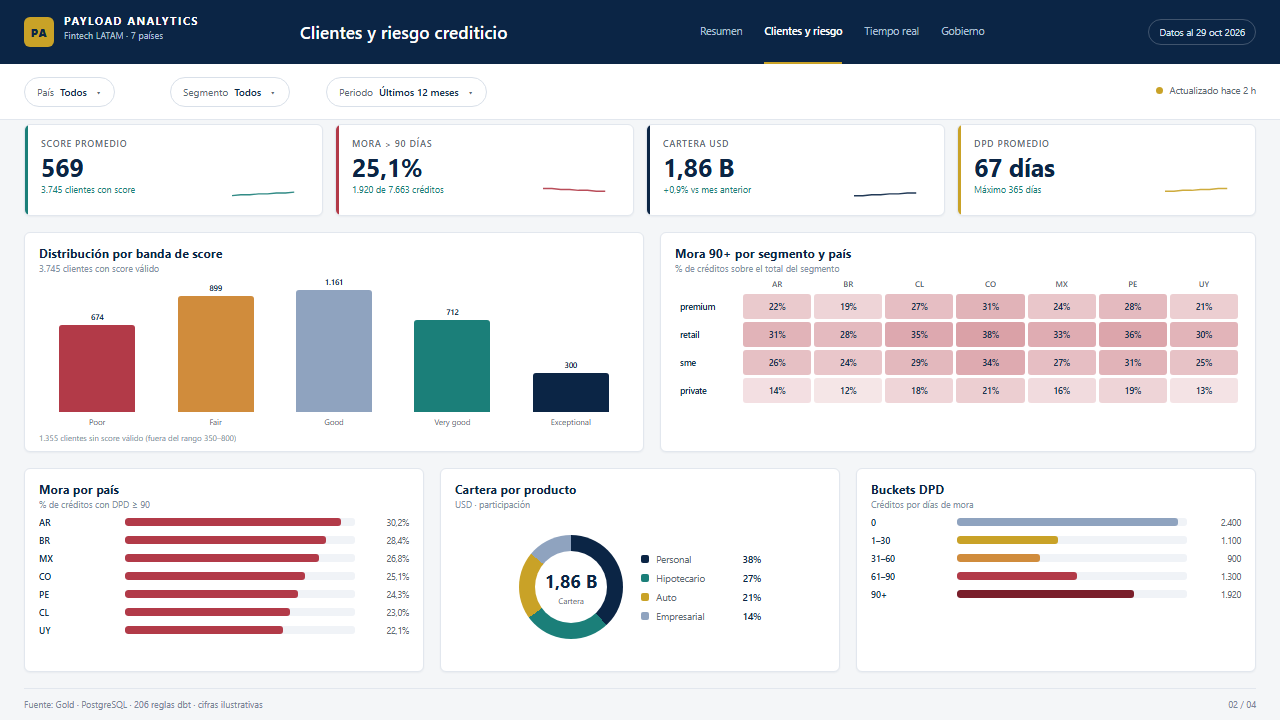

The page's visual inventory and layout, read from the dashboard file:
{"tool":"powerbi","page":{"name":"Riesgo","canvas":[1280,720],"ordinal":1},"visuals":[{"type":"textbox","box":[0,0,1280,720],"z":0},{"type":"textbox","box":[0,64,1280,56],"z":100},{"type":"textbox","box":[24,684,1232,1],"z":100},{"type":"textbox","box":[0,119,1280,1],"z":101},{"type":"slicer","fields":{"Values":["gold dim_customer.country"]},"box":[24,77,180,32],"z":200},{"type":"slicer","fields":{"Values":["gold dim_customer.customer_segment"]},"box":[216,77,190,32],"z":200},{"type":"slicer","fields":{"Values":["gold dim_date.year"]},"box":[418,77,140,32],"z":200},{"type":"card","fields":{"Values":["Medidas.Score promedio"]},"box":[24,124,299,84],"z":200},{"type":"card","fields":{"Values":["Medidas.Tasa de mora 90+"]},"box":[335,124,299,84],"z":200},{"type":"card","fields":{"Values":["Medidas.Cartera"]},"box":[646,124,299,84],"z":200},{"type":"card","fields":{"Values":["Medidas.DPD promedio"]},"box":[957,124,299,84],"z":200},{"type":"clusteredColumnChart","title":"Distribución por banda de score","fields":{"Category":["gold dim_customer.Banda"],"Y":["Medidas.Clientes"]},"box":[24,216,620,200],"z":200},{"type":"pivotTable","title":"Mora 90+ por segmento y país","fields":{"Rows":["gold dim_customer.Segmento"],"Columns":["gold dim_customer.country"],"Values":["Medidas.Tasa de mora 90+"]},"box":[660,216,596,200],"z":200},{"type":"clusteredBarChart","title":"Mora por país","fields":{"Category":["gold dim_customer.country"],"Y":["Medidas.Tasa de mora 90+"]},"box":[24,424,400,248],"z":200},{"type":"donutChart","title":"Cartera por producto","fields":{"Category":["gold fct_loans.Producto"],"Y":["Medidas.Cartera USD"]},"box":[440,424,400,248],"z":200},{"type":"clusteredBarChart","title":"Buckets DPD","fields":{"Category":["gold fct_loans.Bucket"],"Y":["Medidas.Créditos"]},"box":[856,424,400,248],"z":200},{"type":"textbox","box":[0,0,1280,64],"z":1000},{"type":"textbox","box":[680,16,350,32],"z":1090},{"type":"textbox","box":[24,10,230,44],"z":1100},{"type":"pageNavigator","box":[680,16,350,32],"z":1100},{"type":"textbox","box":[260,18,430,30],"z":1100},{"type":"textbox","box":[1150,21,106,22],"z":1100},{"type":"textbox","box":[960,84,296,20],"z":1100},{"type":"textbox","box":[24,694,900,16],"z":1100},{"type":"textbox","box":[1180,694,76,16],"z":1100},{"type":"textbox","box":[0,0,4,64],"z":1200}]}

Visuals, with their boxes on the page's 1280x720 design canvas (x1, y1, x2, y2). These are canvas units, not pixel positions in the 1280x720 screenshot, which may show the page scaled, cropped or inside an application window:
textbox: 0 0 1280 720
textbox: 0 64 1280 120
textbox: 24 684 1256 685
textbox: 0 119 1280 120
slicer - gold dim_customer.country: 24 77 204 109
slicer - gold dim_customer.customer_segment: 216 77 406 109
slicer - gold dim_date.year: 418 77 558 109
card - Medidas.Score promedio: 24 124 323 208
card - Medidas.Tasa de mora 90+: 335 124 634 208
card - Medidas.Cartera: 646 124 945 208
card - Medidas.DPD promedio: 957 124 1256 208
"Distribución por banda de score" clusteredColumnChart: 24 216 644 416
"Mora 90+ por segmento y país" pivotTable: 660 216 1256 416
"Mora por país" clusteredBarChart: 24 424 424 672
"Cartera por producto" donutChart: 440 424 840 672
"Buckets DPD" clusteredBarChart: 856 424 1256 672
textbox: 0 0 1280 64
textbox: 680 16 1030 48
textbox: 24 10 254 54
pageNavigator: 680 16 1030 48
textbox: 260 18 690 48
textbox: 1150 21 1256 43
textbox: 960 84 1256 104
textbox: 24 694 924 710
textbox: 1180 694 1256 710
textbox: 0 0 4 64
